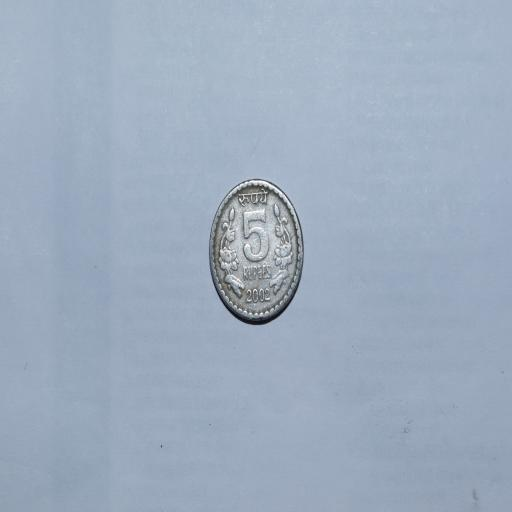rupee5: (204, 176, 305, 329)
